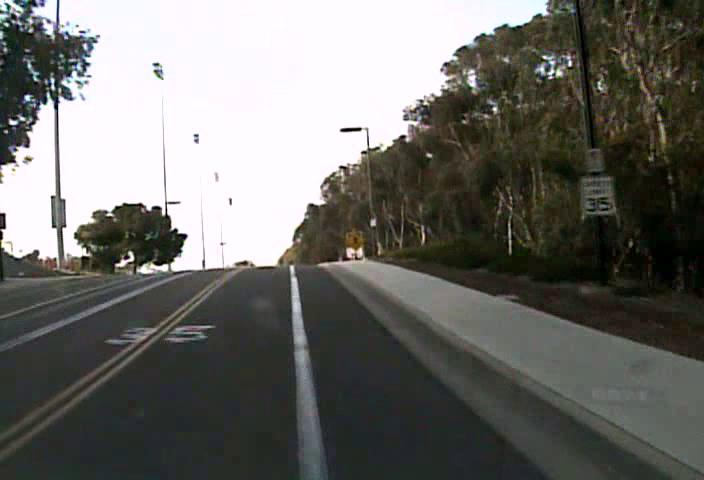speedLimit35: (579, 174, 616, 216)
